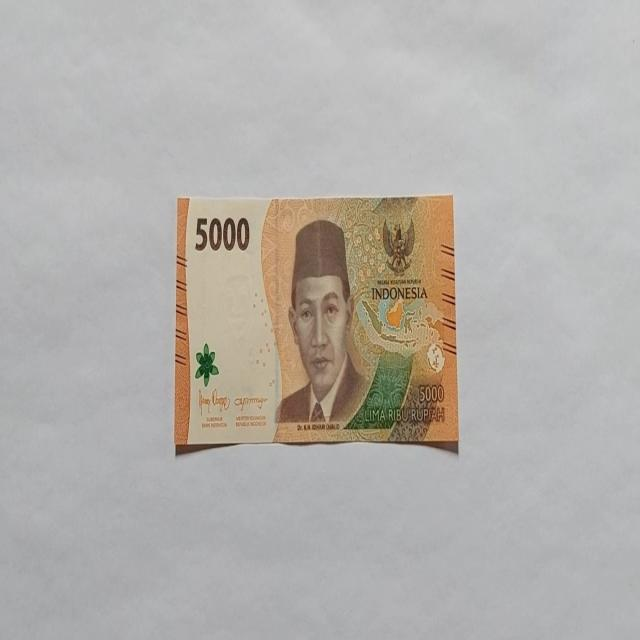lima ribu rupiah: (174, 193, 458, 455), (274, 218, 370, 427)
